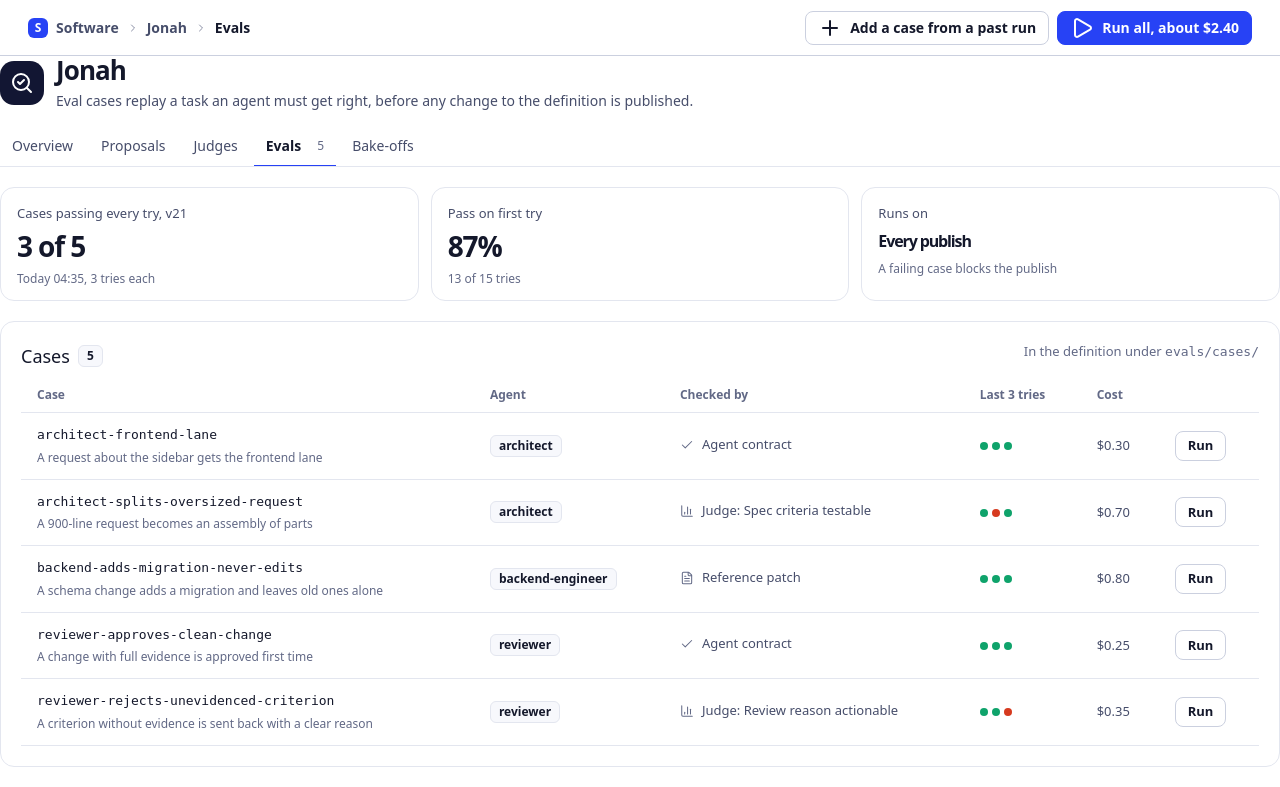
adding a case from a past run › names a case that is not a slug before sending anything
expect the table is shown: met, box [21,386,1259,746]
Click the button "Add a case from a past run": click(927, 28) [805,10,1049,44]
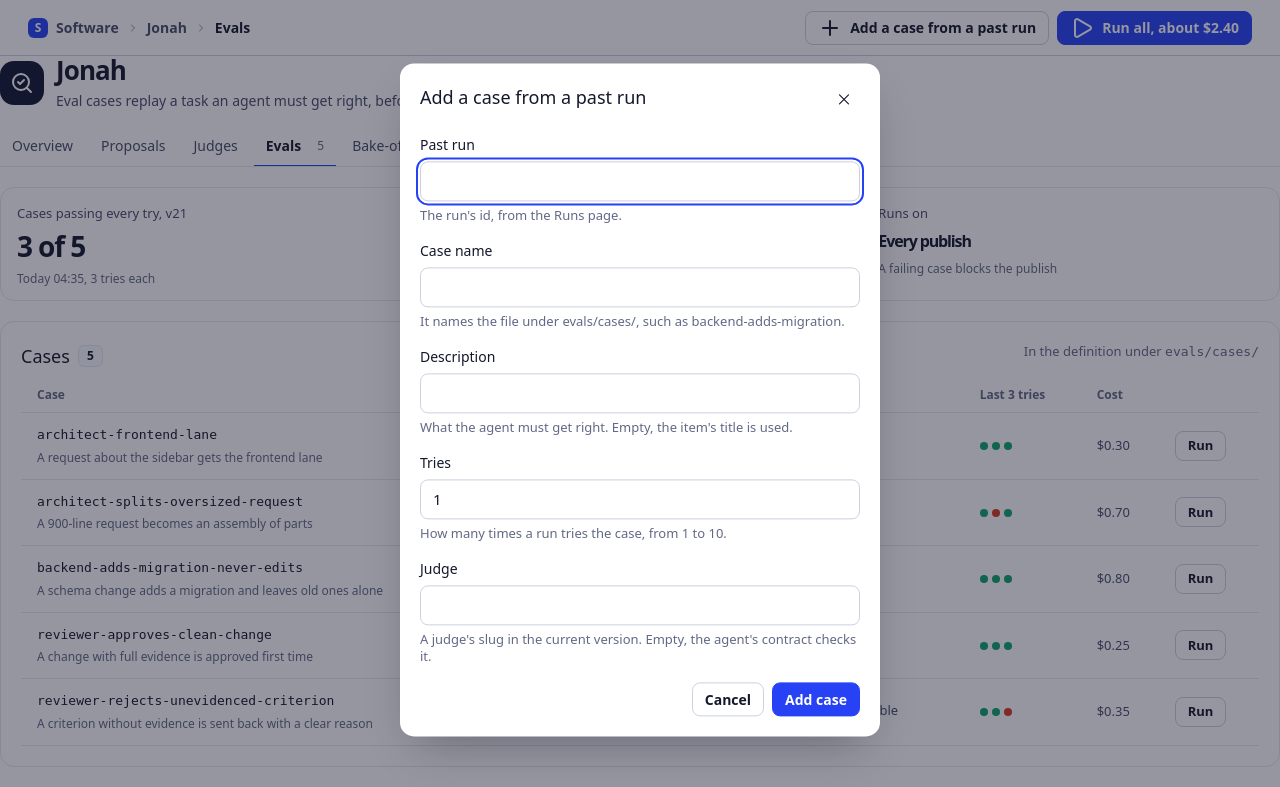
In the field labelled "Past run": (640, 181) [420,161,860,201], type "run-41"
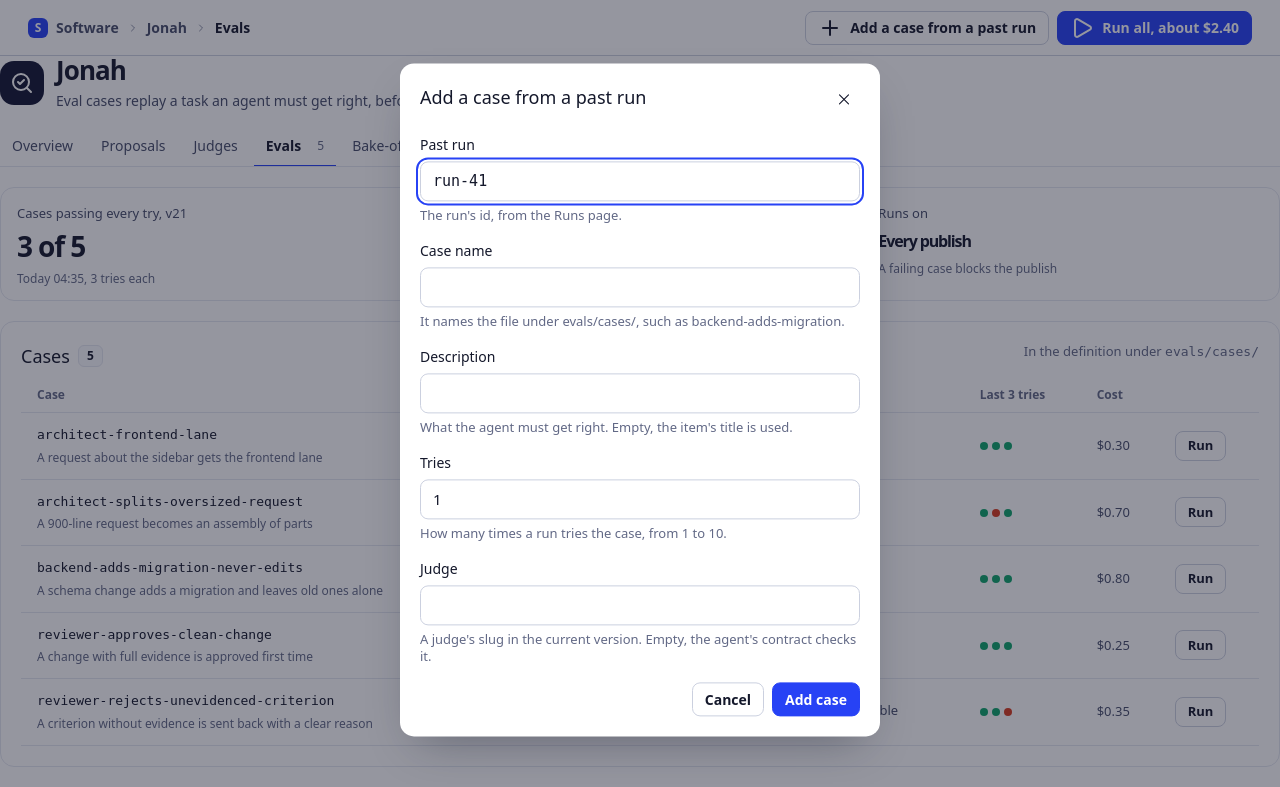
In the field labelled "Case name": (640, 287) [420,267,860,307], type "Bad Name"
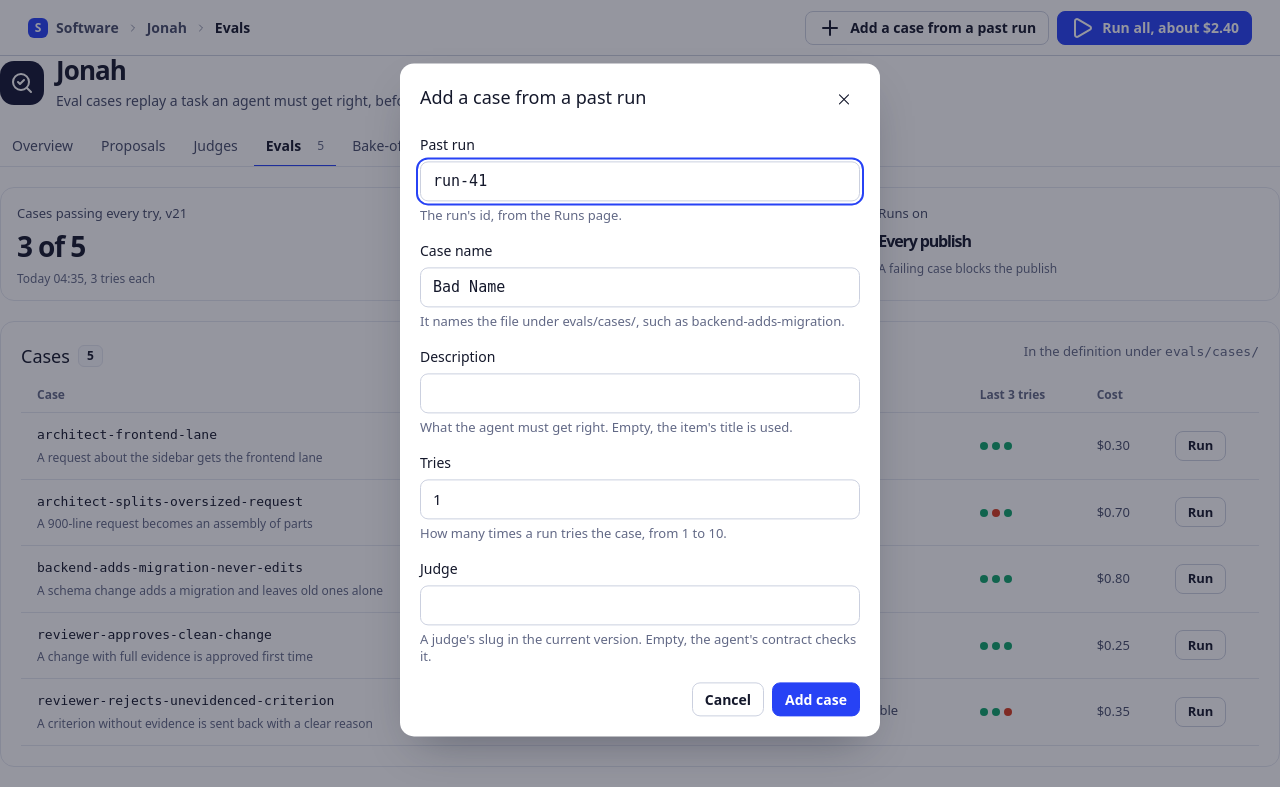
Click the button "Add case": click(816, 700) [772,683,860,717]
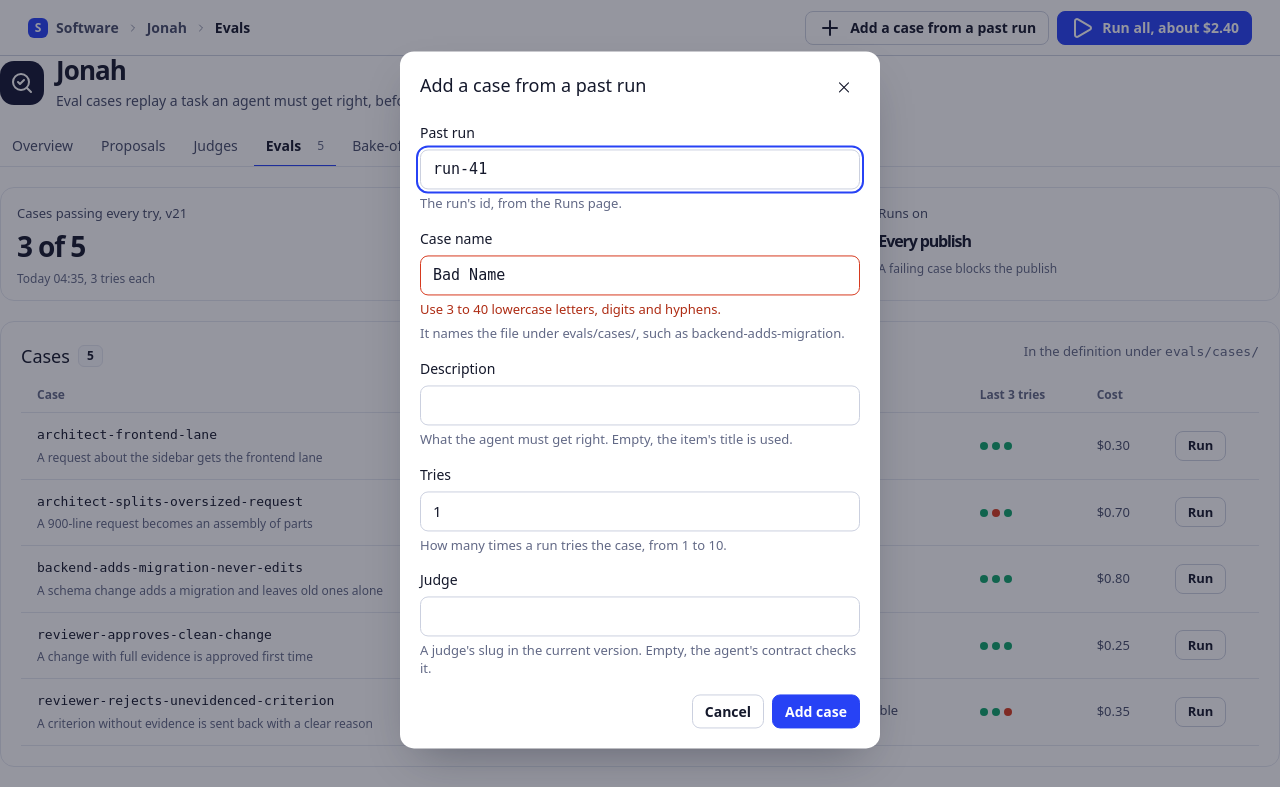
expect the text "Use 3 to 40 lowercase letters, digits and hyphens." is shown: met, box [420,300,721,318]
